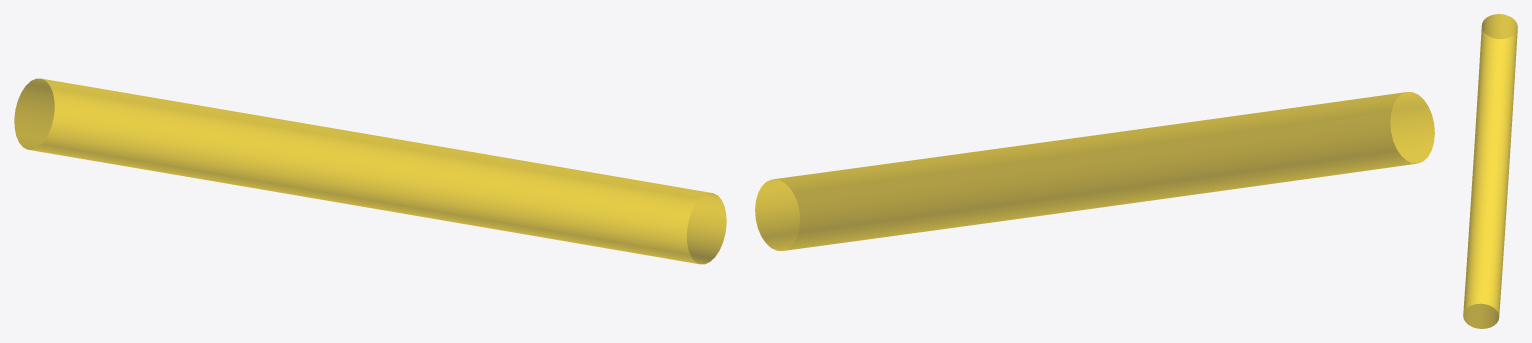
Rendered from Event_402970704_track_18.fbx.
3 views of the same model, side by side, from view 1: azimuth 30°, elevation 25°; view 2: azimuth 150°, elevation 25°; view 3: azimuth 270°, elevation 25° (orthographic). The views are drawn at different scales.
Visible parts, largest first — view 1: Model; view 2: Model; view 3: Model.
Part boxes in pixels (x1,y1,x2,y2): Model: (14, 78, 726, 264); Model: (755, 92, 1434, 250); Model: (1463, 14, 1517, 328).
Size of the model in its own units: 0.431 by 0.1961 by 0.0605.
